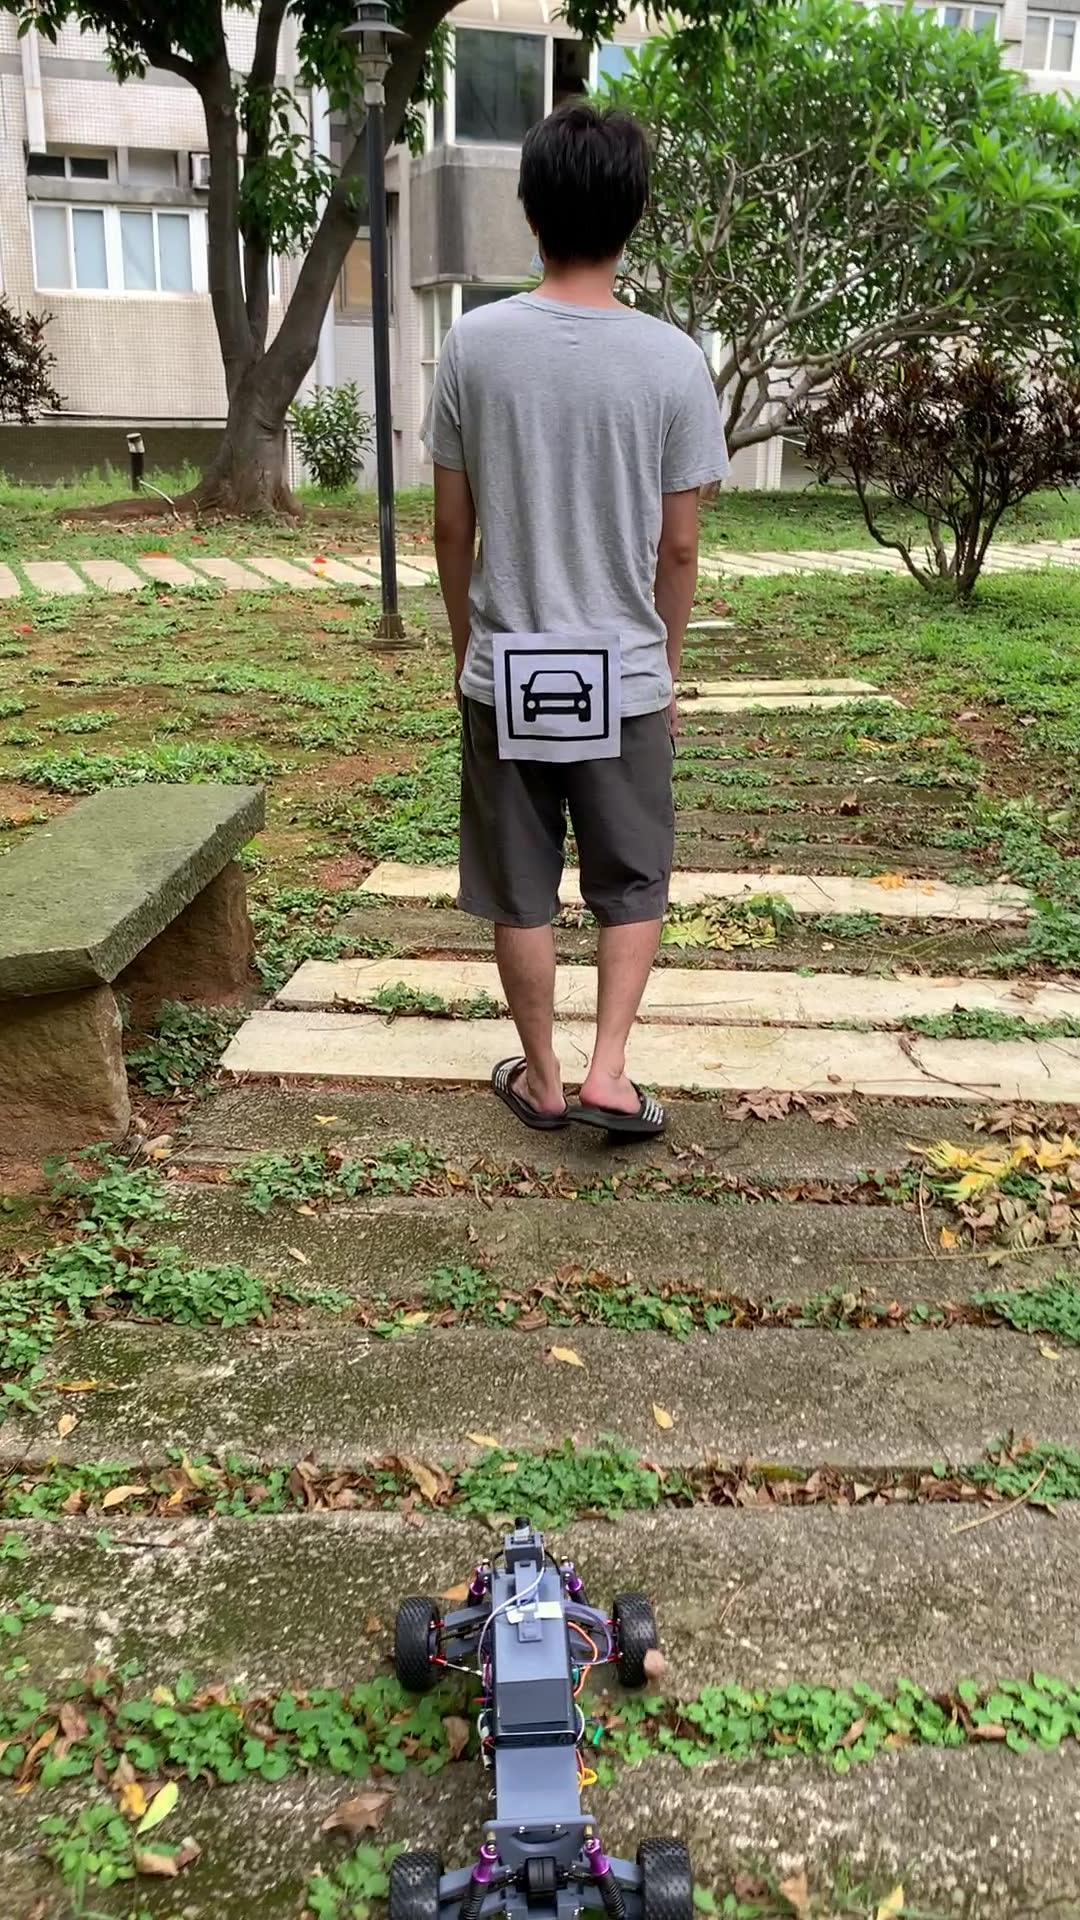car_img: (504, 647, 609, 742)
